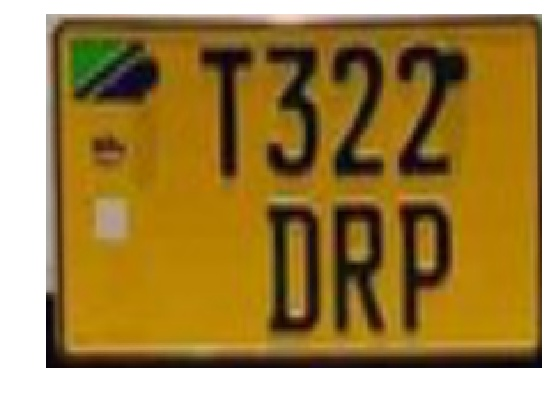T: (184, 36, 262, 185)
